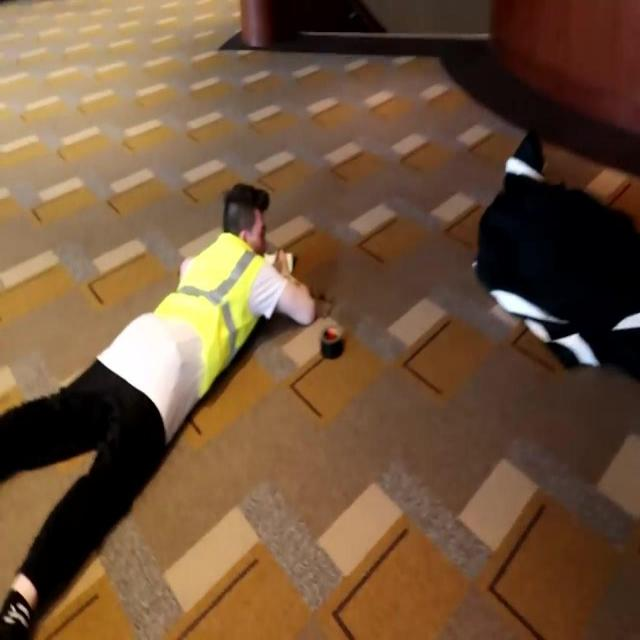con_chaleco: (154, 236, 266, 404)
